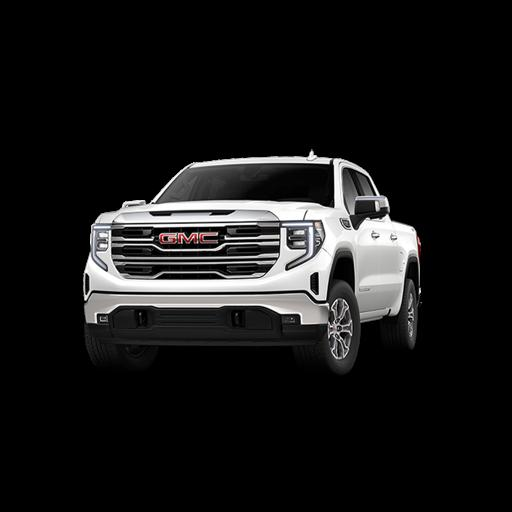truck: (83, 153, 419, 373)
